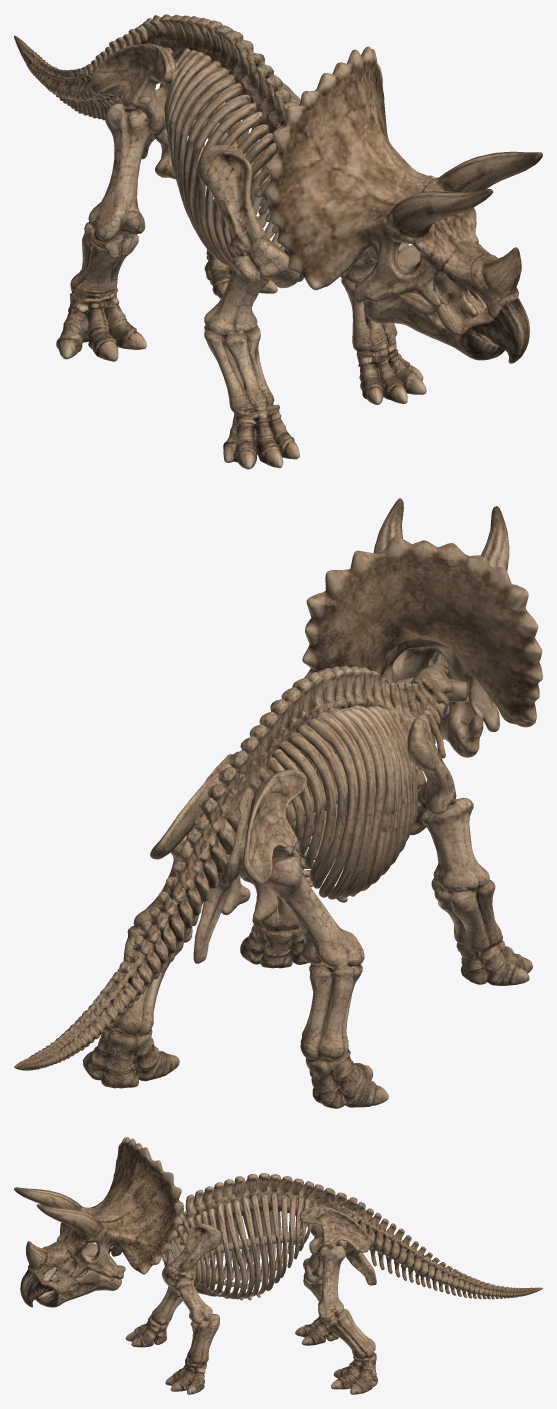
The model's file is triceratops_body.glb.
The picture shows the model from 3 angles, top to bottom: view 1: azimuth 30°, elevation 25°; view 2: azimuth 150°, elevation 25°; view 3: azimuth 270°, elevation 25°; orthographic projection. The views are drawn at different scales.
Parts seen in each view (by area): view 1: body; view 2: body; view 3: body.
Boxes of the visible parts, left/top/right/bottom form: body: left=14, top=14, right=542, bottom=469; body: left=14, top=498, right=542, bottom=1108; body: left=14, top=1137, right=542, bottom=1394.
Bounding box in the file's own units: 0.5853 × 0.8721 × 1.9.
1 material, 1 textured.
